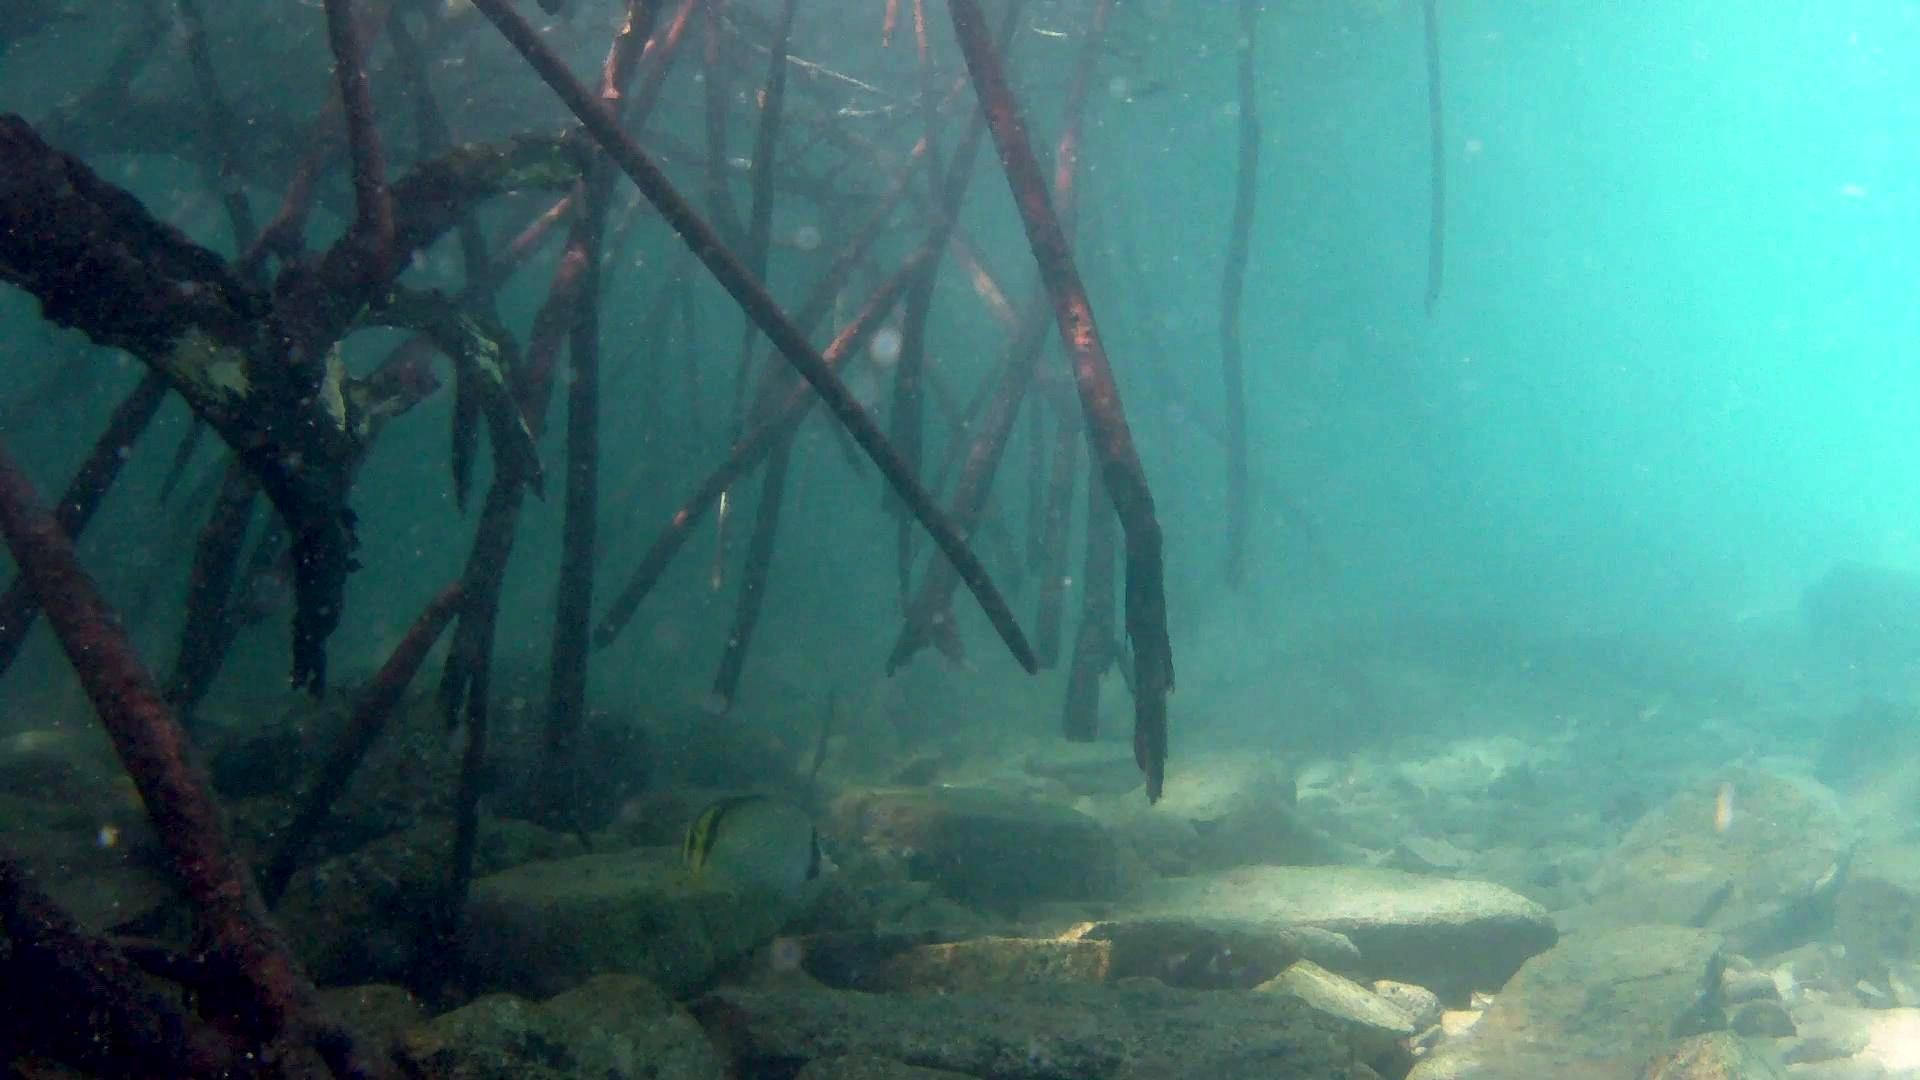chaetodon vagabundus: (675, 791, 843, 908)
